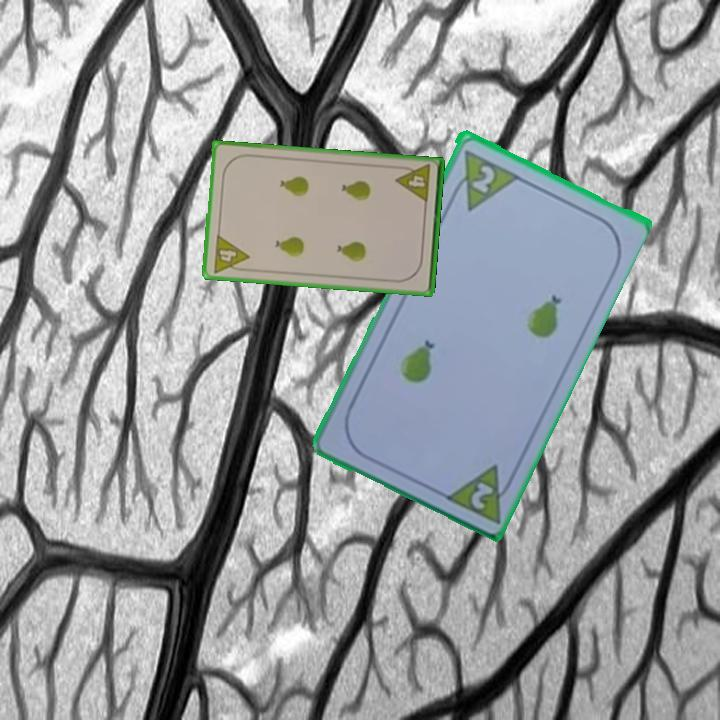2p: (439, 459, 519, 526), (445, 145, 520, 213)
4p: (209, 231, 252, 276), (393, 161, 433, 206)
